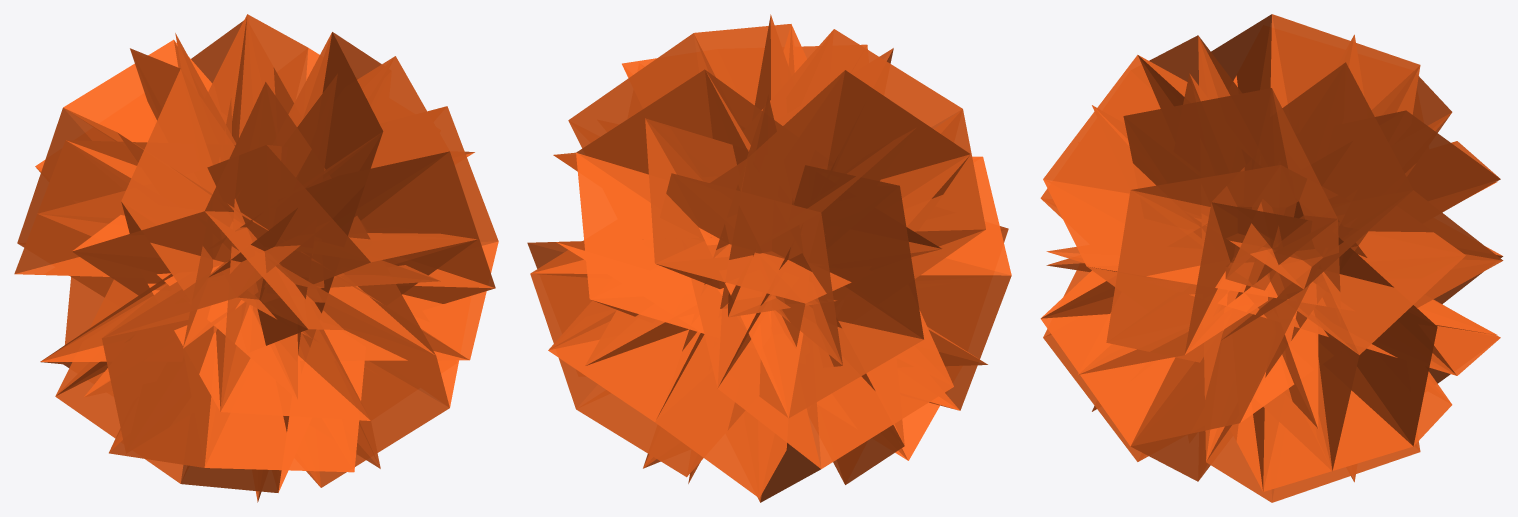
The model's file is GreatPentagrammicHexecontahedron.obj.
The picture shows the model from 3 angles, left to right: view 1: azimuth 30°, elevation 25°; view 2: azimuth 150°, elevation 25°; view 3: azimuth 270°, elevation 25°; orthographic projection.
Size of the model in its own units: 2.95 by 2.95 by 2.95.
